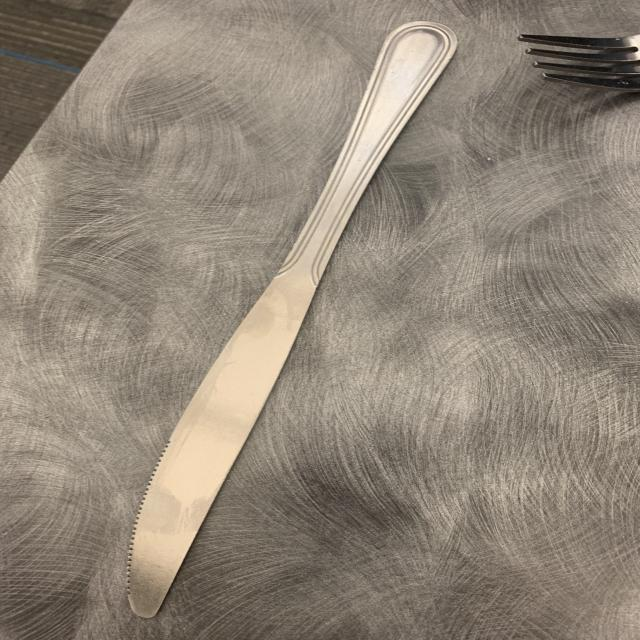knife: (125, 5, 466, 638)
